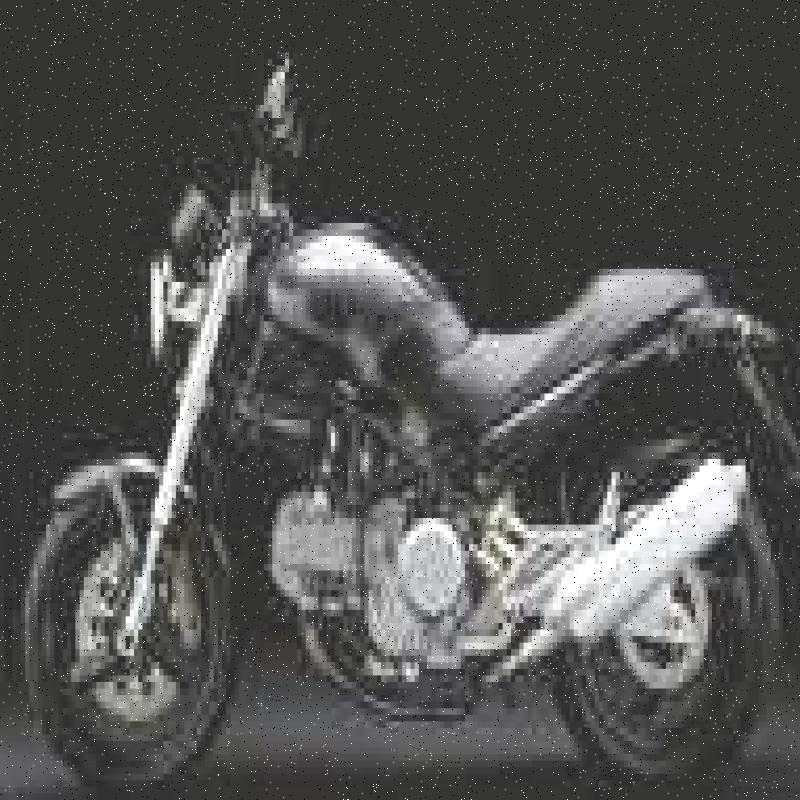bike: (2, 60, 798, 788)
